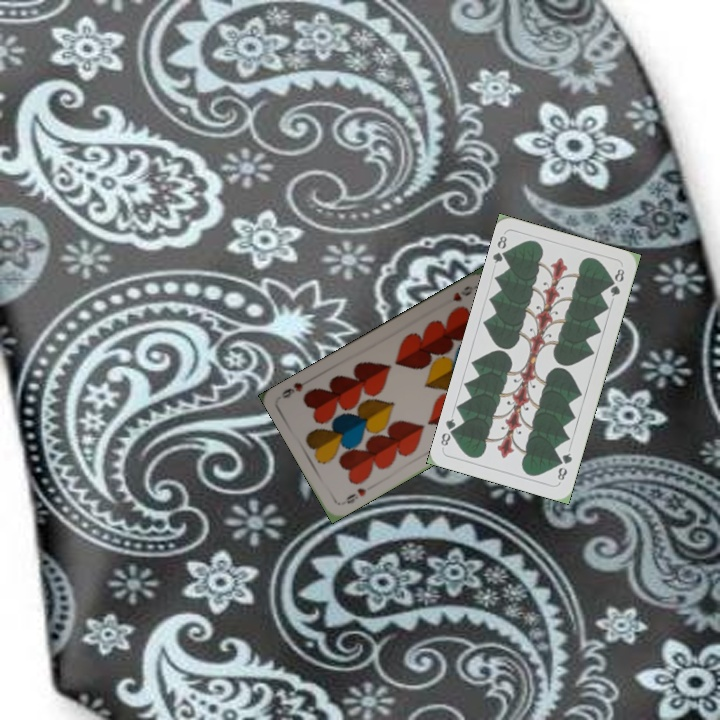G8: (489, 232, 512, 266), (553, 449, 575, 483)
H9: (342, 484, 369, 507), (448, 282, 475, 304)
